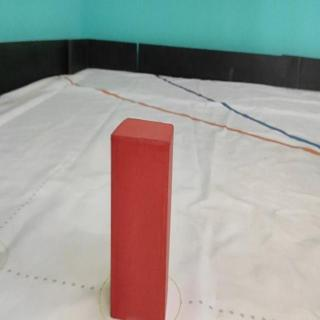redbox: (109, 118, 173, 320)
